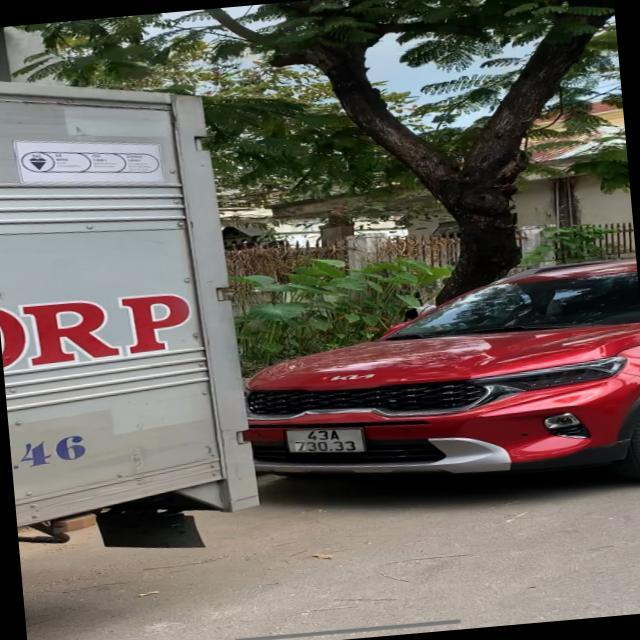car: (7, 92, 242, 521), (241, 254, 634, 498)
plate: (280, 420, 370, 461)
